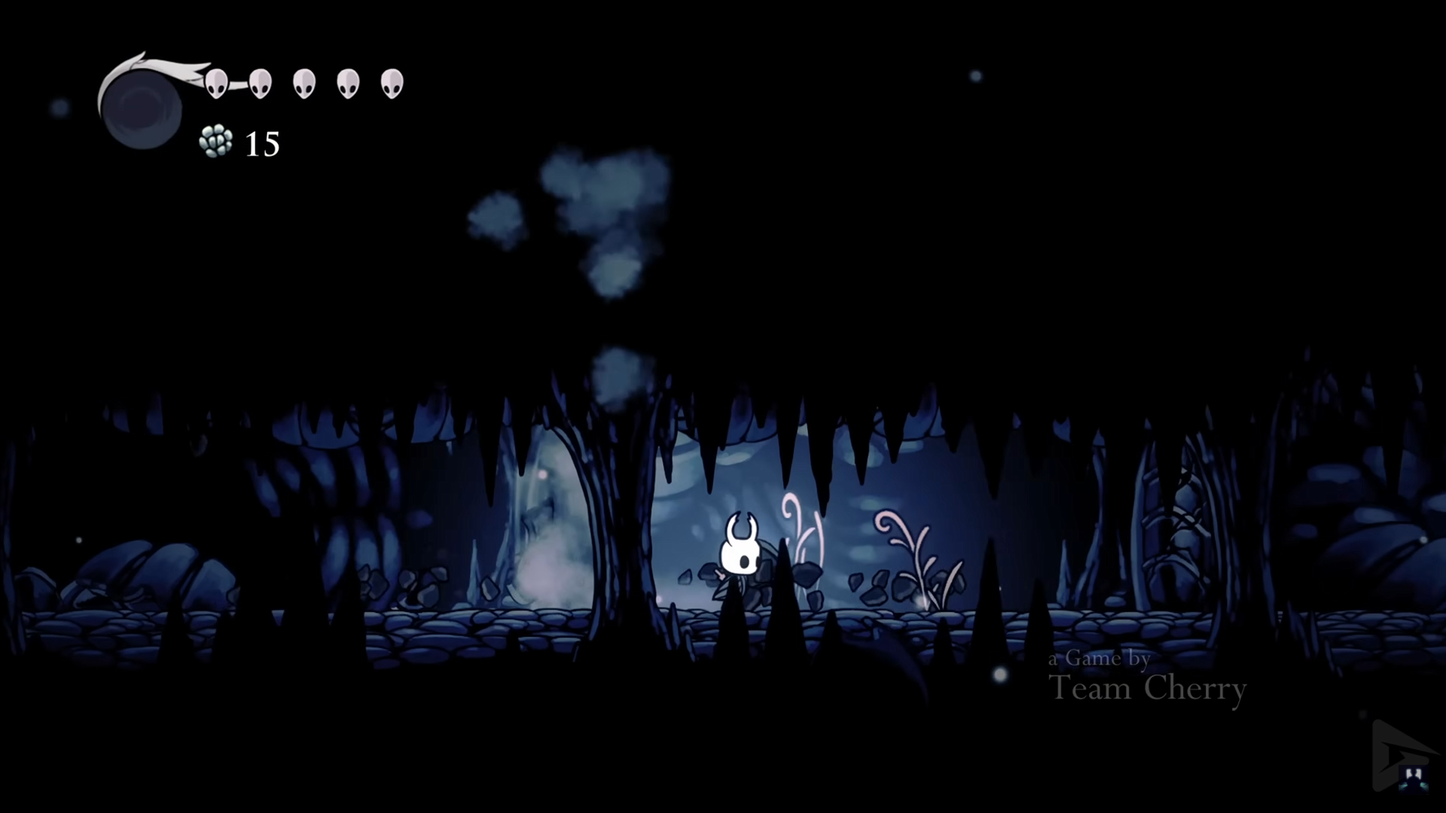HK: (708, 511, 769, 614)
